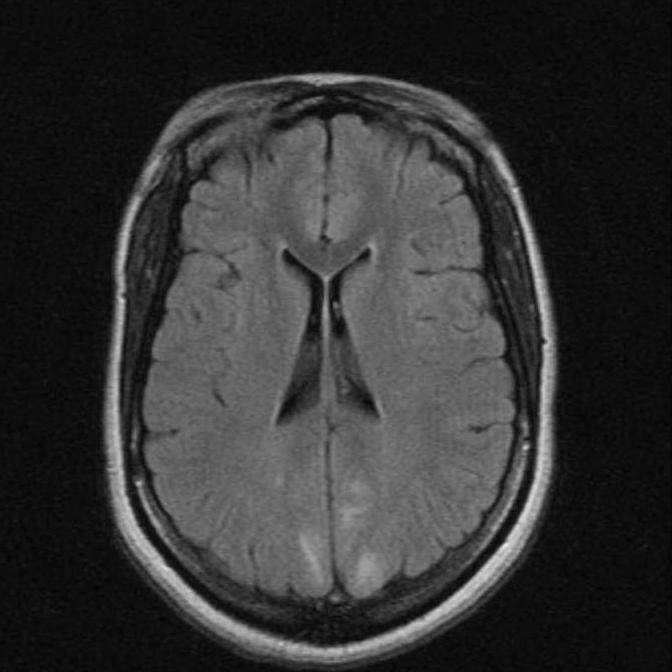Normal_Brain: (18, 1, 624, 672)
